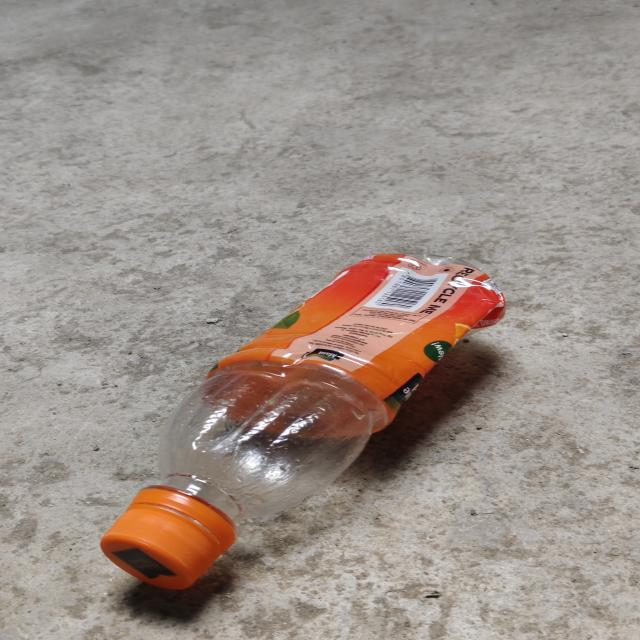Bottle: (100, 253, 507, 595)
